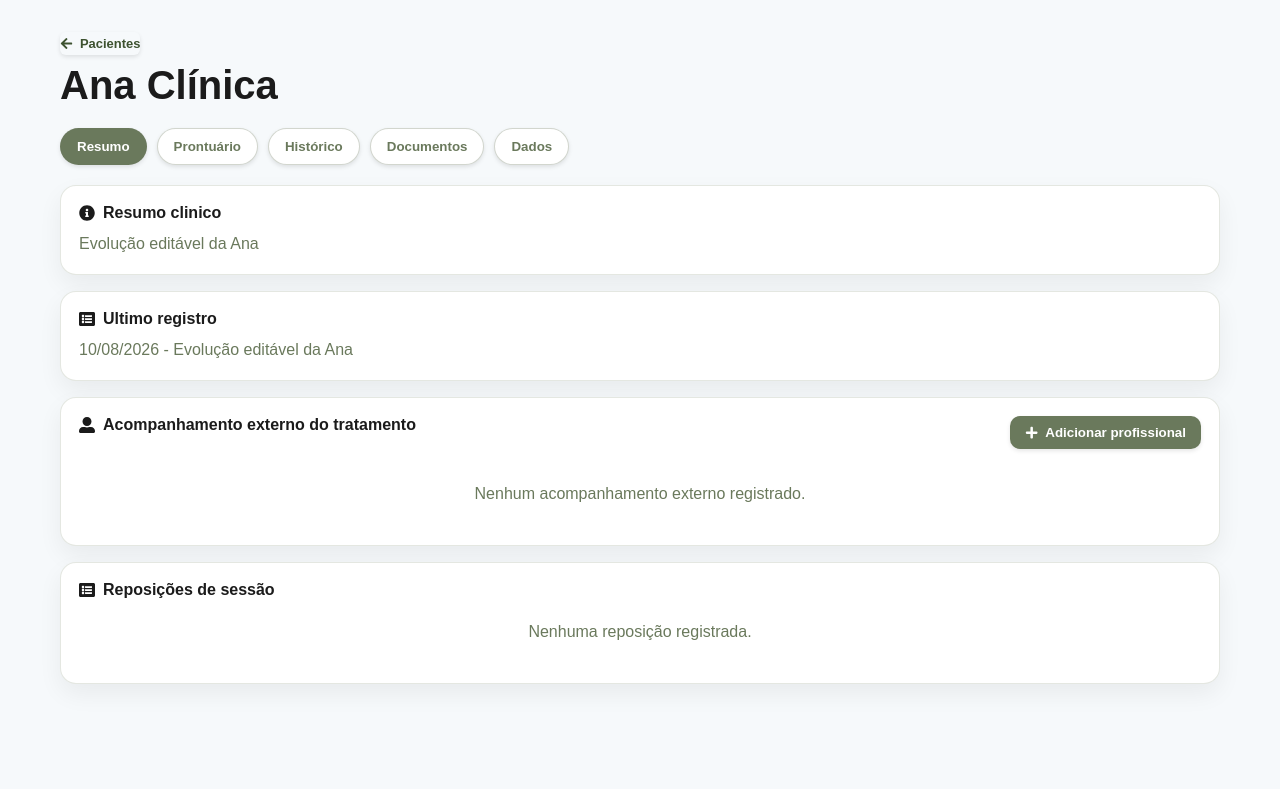
Test: PatientDetails patient-scoped clinical context › keeps case switching within the same patient
The width and height of the screenshot is (1280, 789).
expect the heading "Ana Clínica" is shown: met, box top-left (60, 63), bottom-right (278, 108)
Click the button "Prontuário".
click(207, 146)  # box top-left (157, 128), bottom-right (258, 165)
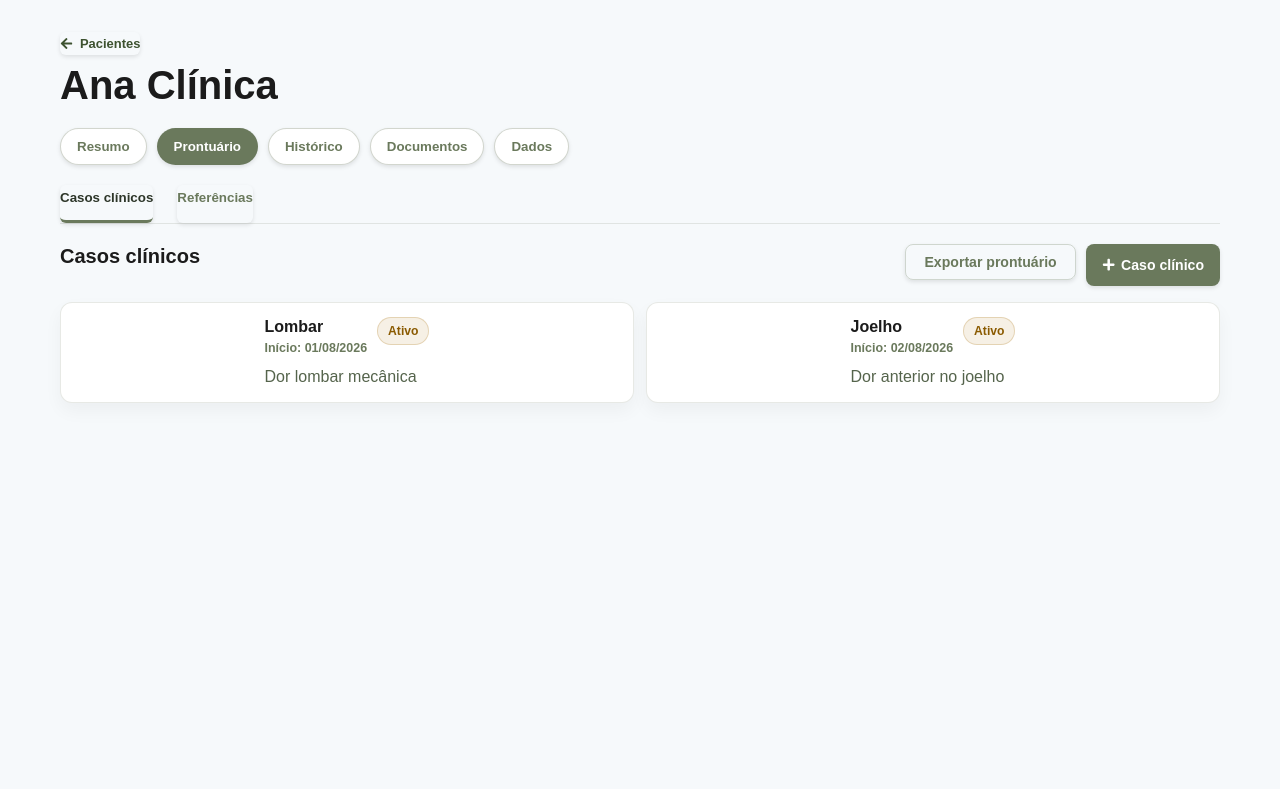
Click the button "Lombar Início: 01/08/2026 Ativo Dor lombar mecânica".
click(347, 353)  # box top-left (60, 302), bottom-right (634, 403)
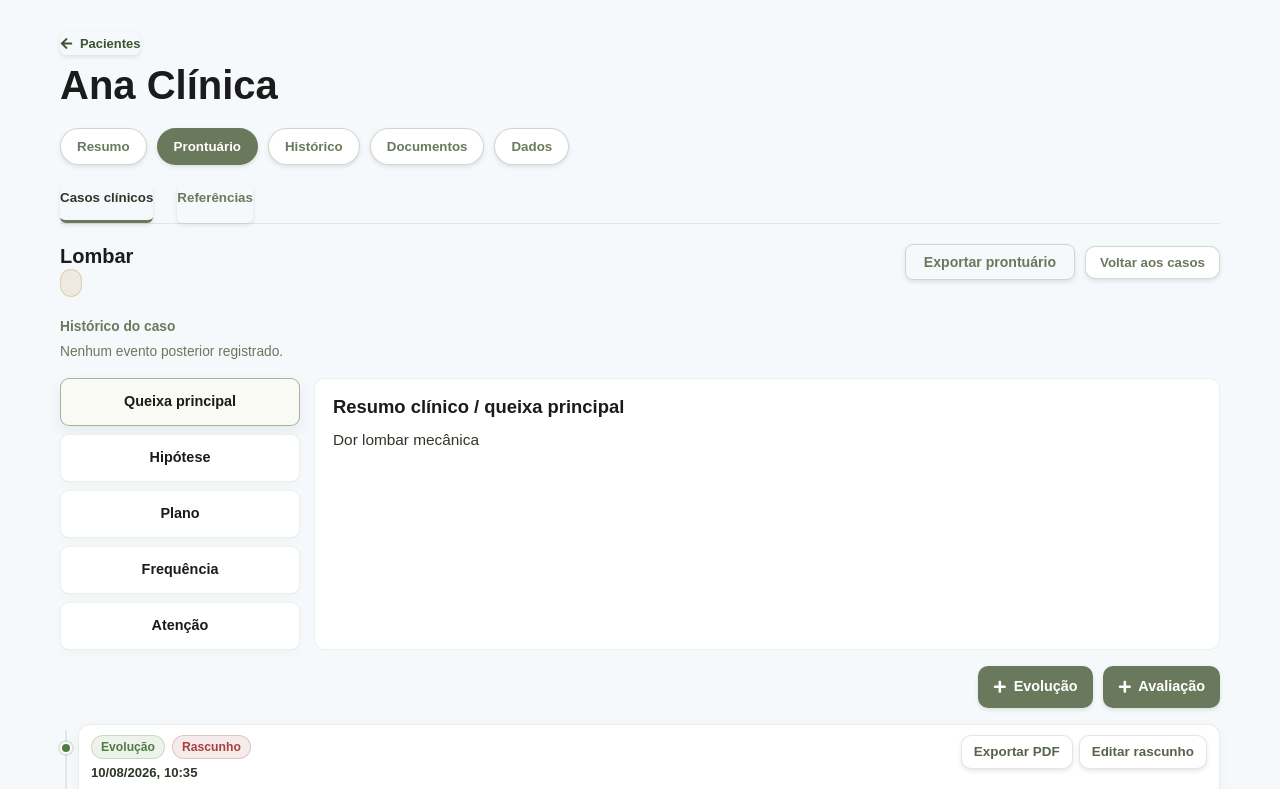
expect the text "Dor lombar mecânica" is shown: met, box top-left (333, 430), bottom-right (479, 448)
Click the button "Voltar aos casos".
click(1152, 262)  # box top-left (1085, 246), bottom-right (1220, 278)
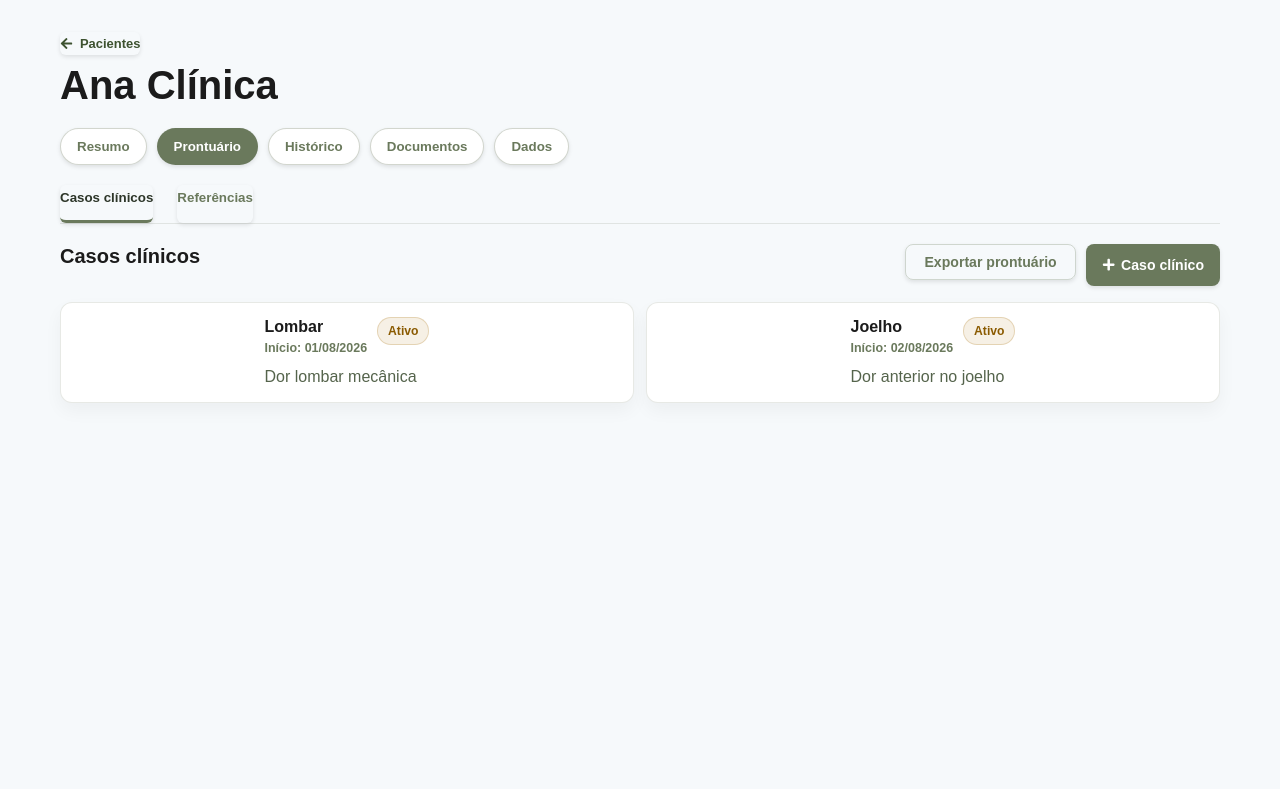
Click the button "Joelho Início: 02/08/2026 Ativo Dor anterior no joelho".
click(933, 353)  # box top-left (646, 302), bottom-right (1220, 403)
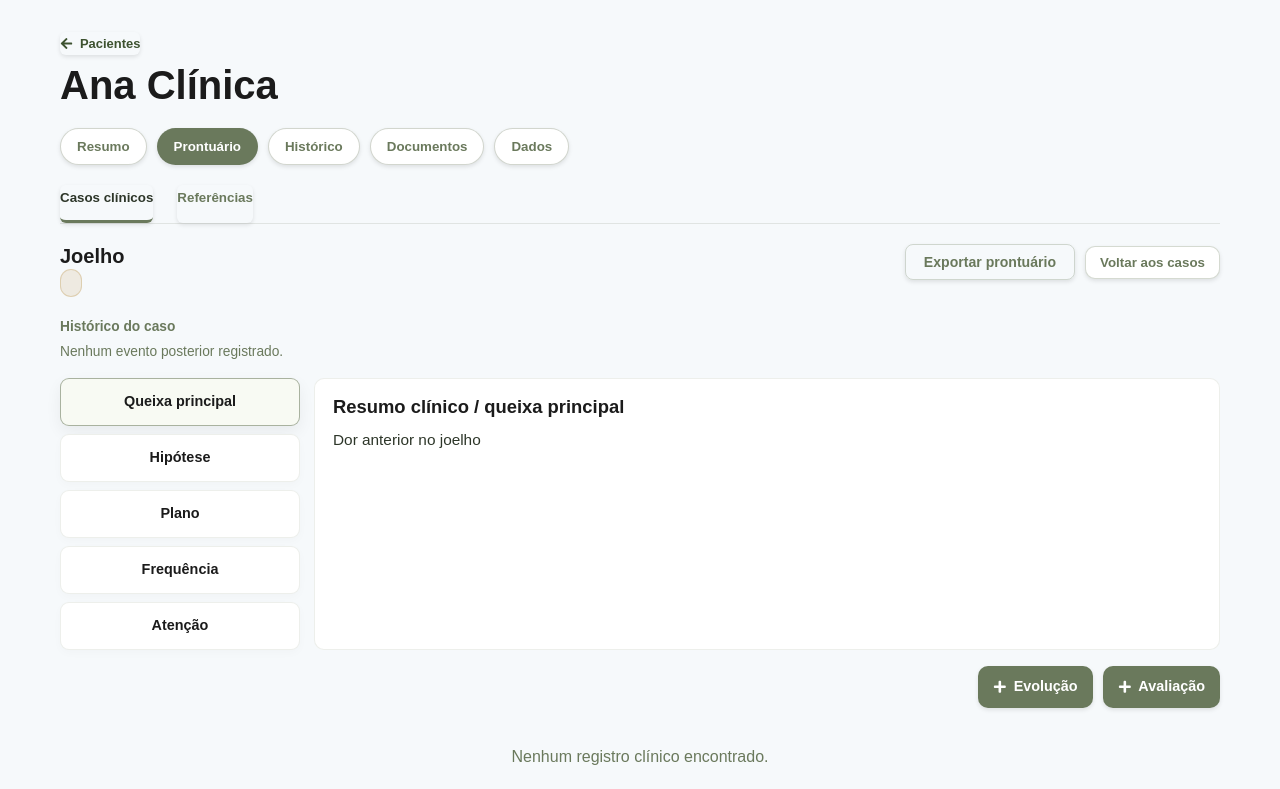
expect the text "Dor anterior no joelho" is shown: met, box top-left (333, 430), bottom-right (481, 448)
expect the button "Dor lombar mecânica" is gone: met
